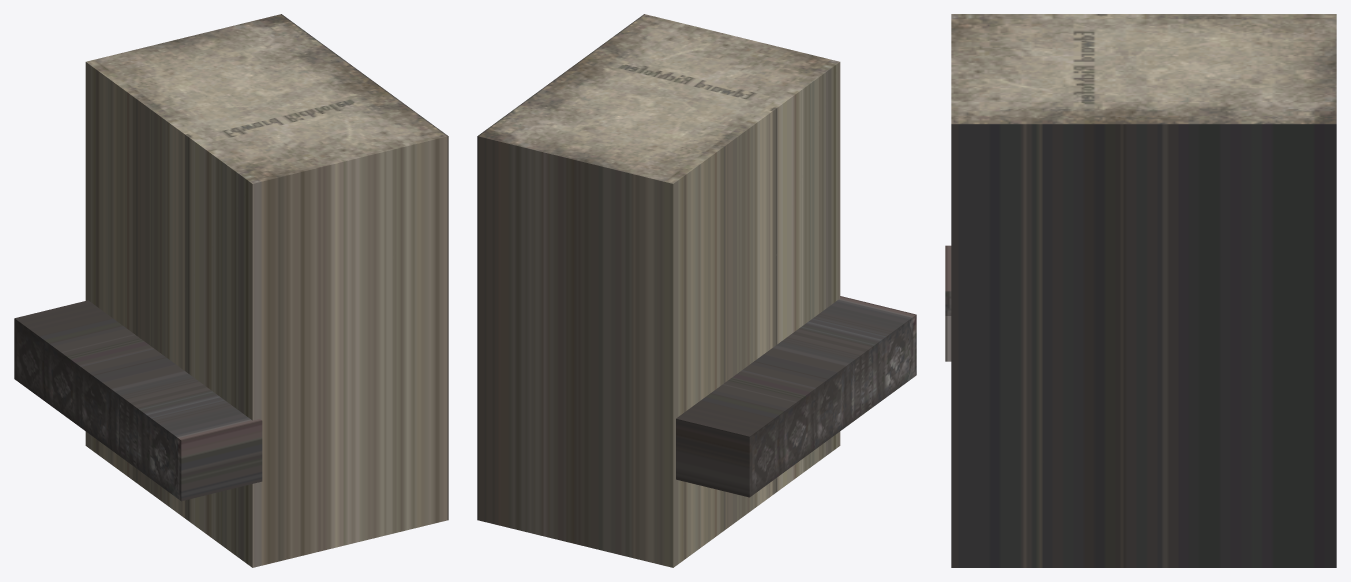
The model's file is p_glo_books_row03_LOD2.obj.
3 views of the same model, side by side, from view 1: azimuth 30°, elevation 25°; view 2: azimuth 150°, elevation 25°; view 3: azimuth 270°, elevation 25° (orthographic). The views are drawn at different scales.
Visible parts, largest first — view 1: mtl_p_glo_books; view 2: mtl_p_glo_books; view 3: mtl_p_glo_books.
Boxes of the visible parts, x1,y1,x2,y2 form: mtl_p_glo_books: [14, 14, 448, 567]; mtl_p_glo_books: [477, 14, 916, 567]; mtl_p_glo_books: [945, 14, 1336, 567].
Size of the model in its own units: 19.09 by 25.97 by 20.77.
